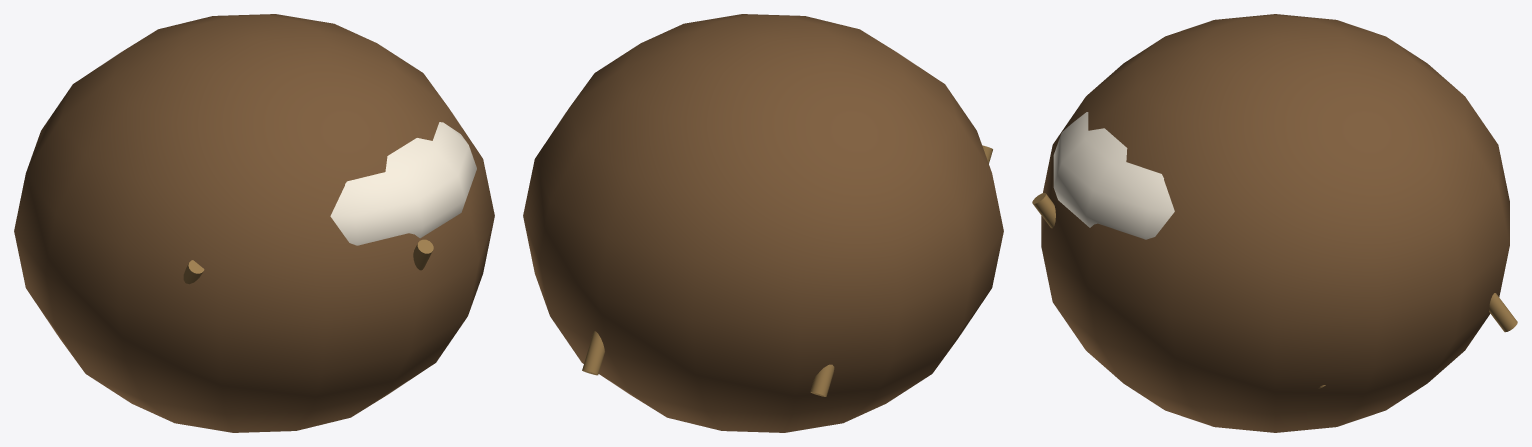
File: waste_coconut.fbx
The picture shows the model from 3 angles, left to right: view 1: azimuth 30°, elevation 25°; view 2: azimuth 150°, elevation 25°; view 3: azimuth 270°, elevation 25°; orthographic projection.
Visible parts, largest first — view 1: M__waste_coconut; view 2: M__waste_coconut; view 3: M__waste_coconut.
Boxes of the visible parts, x1=… form: M__waste_coconut: x1=14, y1=14, x2=494, y2=432; M__waste_coconut: x1=523, y1=14, x2=1003, y2=432; M__waste_coconut: x1=1032, y1=14, x2=1517, y2=432.
Size of the model in its own units: 0.17 by 0.1445 by 0.1717.
